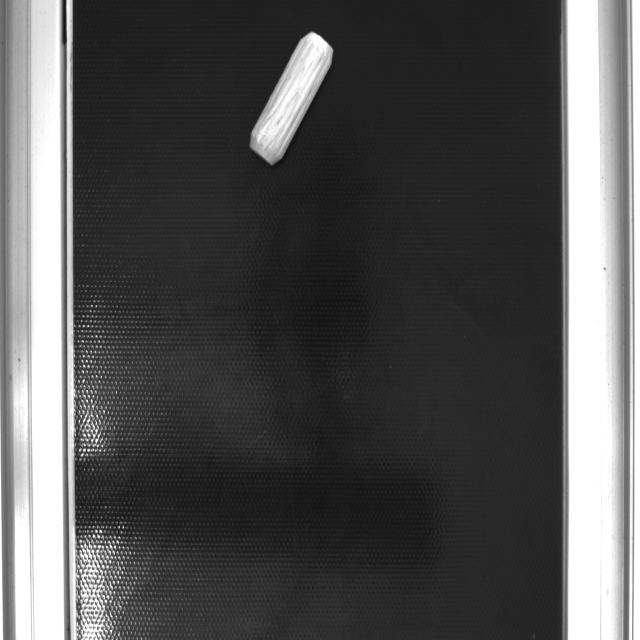Chot go: (243, 24, 339, 172)
